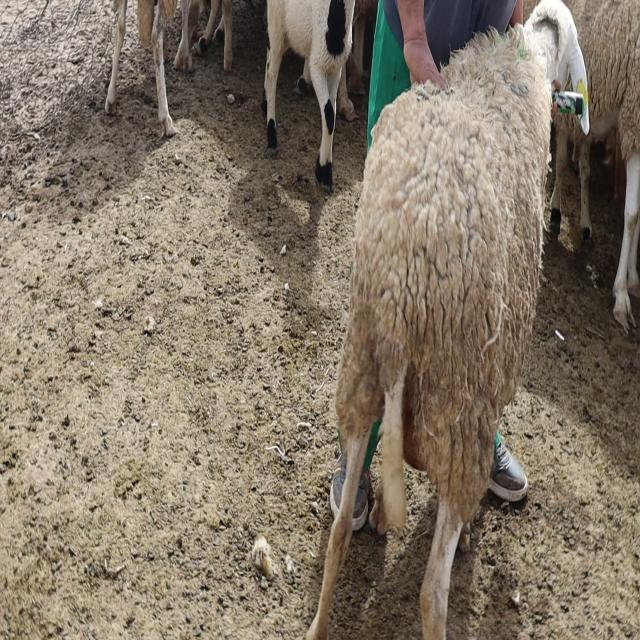Score_2: (306, 0, 589, 639)
